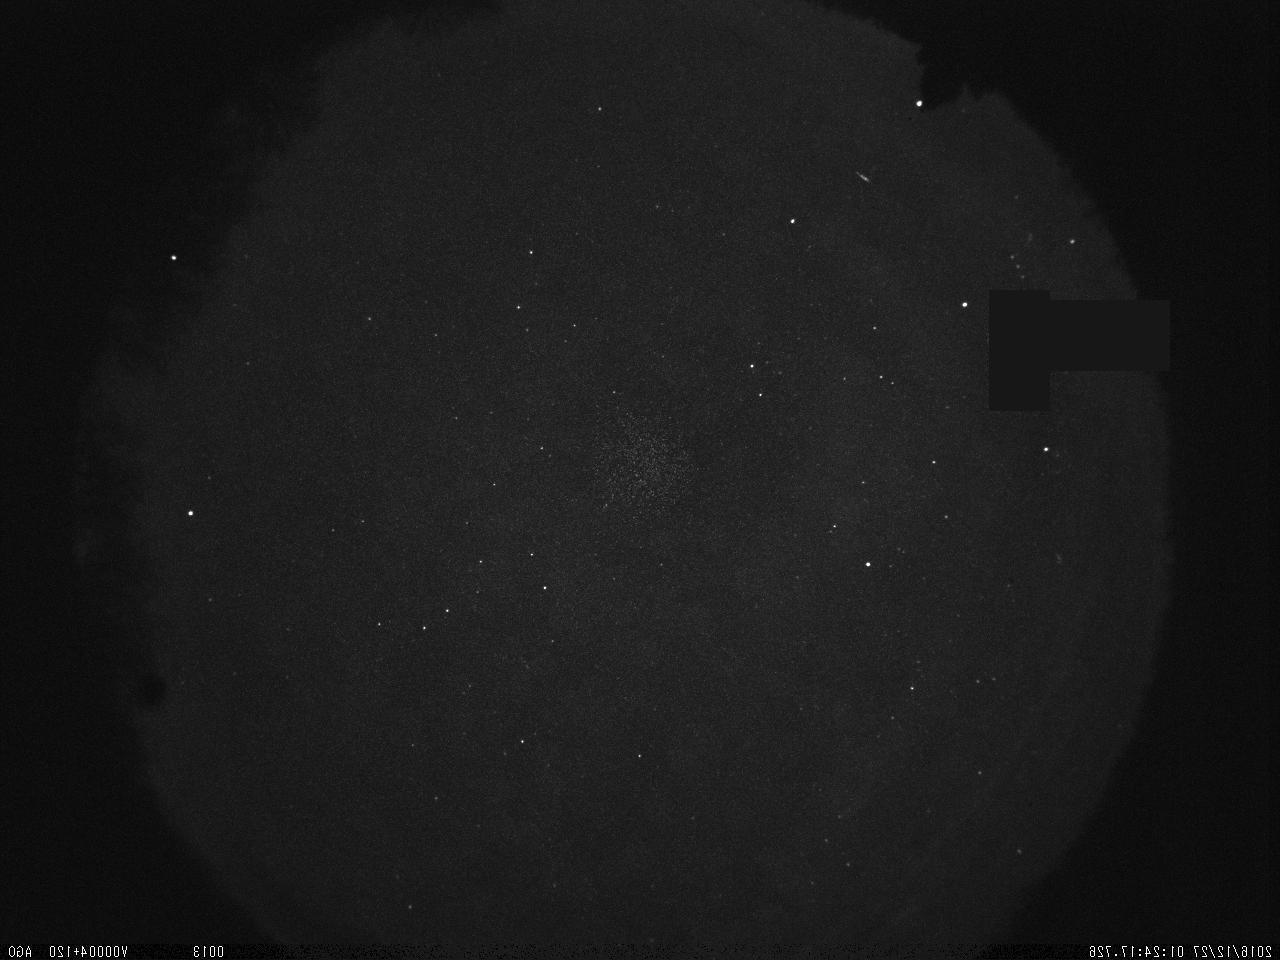meteor: (849, 165, 875, 190)
